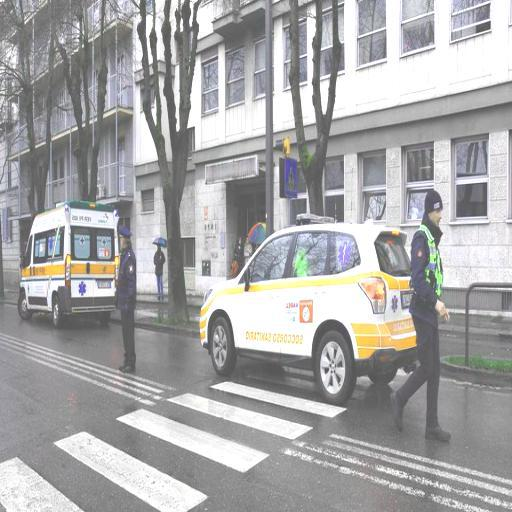crosswalk: (108, 390, 346, 476)
